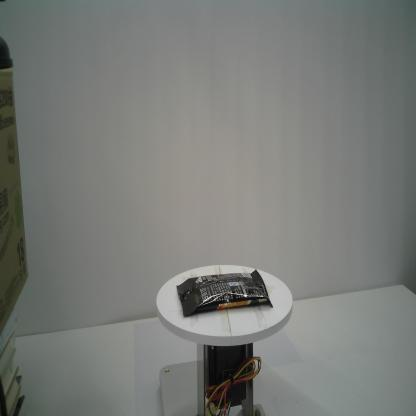Instant Drink: (176, 268, 273, 316)
